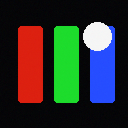2 circle: (83, 22, 111, 50)
